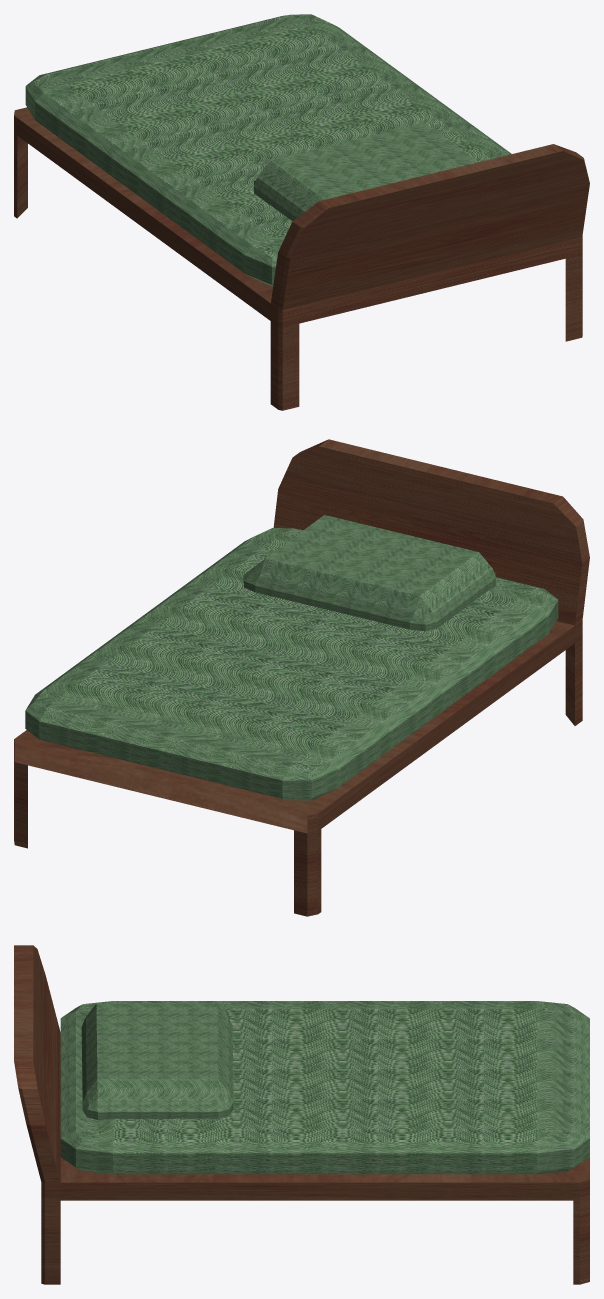
Rendered from Bed_Simple.glb.
3 views of the same model, one above another, from view 1: azimuth 30°, elevation 25°; view 2: azimuth 150°, elevation 25°; view 3: azimuth 270°, elevation 25° (orthographic).
Parts seen in each view (by area): view 1: matrice.001, bedframe.001, pillow.001; view 2: matrice.001, bedframe.001, pillow.001; view 3: matrice.001, bedframe.001, pillow.001.
Boxes of the visible parts, x1,y1,x2,y2 form: matrice.001: (25, 14, 511, 286); bedframe.001: (14, 107, 589, 410); pillow.001: (254, 122, 478, 221); matrice.001: (25, 528, 558, 800); bedframe.001: (14, 439, 589, 916); pillow.001: (243, 515, 495, 631); matrice.001: (60, 1001, 589, 1174); bedframe.001: (14, 945, 589, 1284); pillow.001: (81, 1003, 233, 1119).
Bounding box in the file's own units: 1.94 × 1.24 × 3.14.
2 materials, 2 textured.
